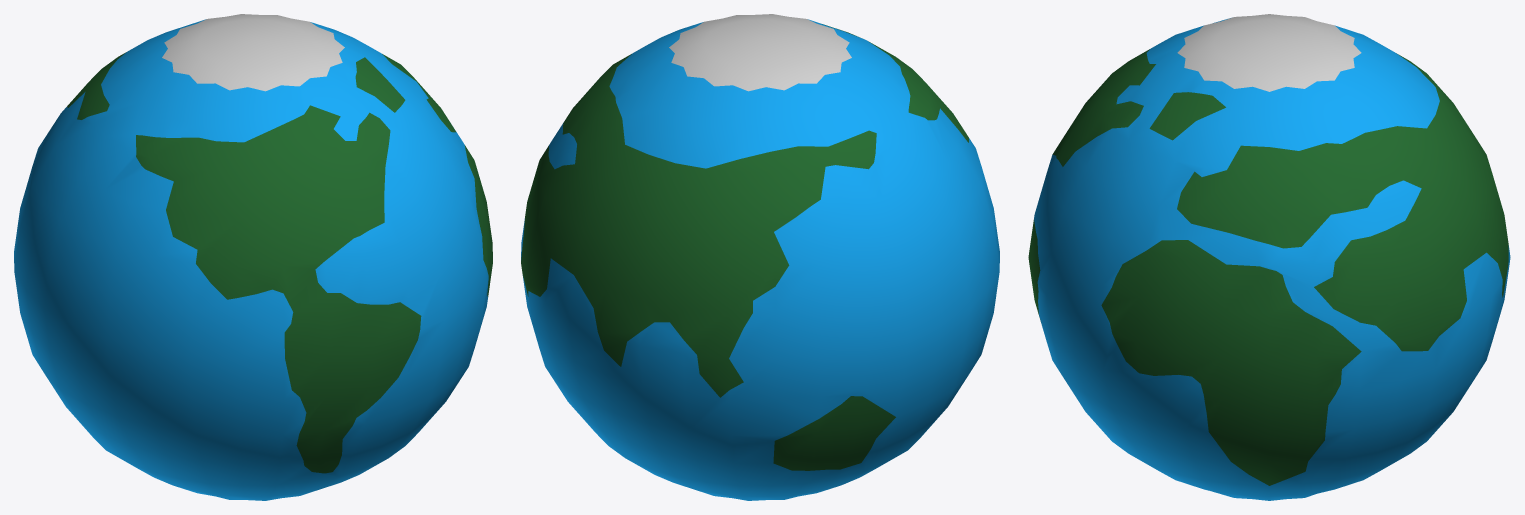
The model's file is 03_Terra.gltf.
3 renders of one model, left to right at view 1: azimuth 30°, elevation 25°; view 2: azimuth 150°, elevation 25°; view 3: azimuth 270°, elevation 25°, orthographic.
Visible parts, largest first — view 1: 03_Terra; view 2: 03_Terra; view 3: 03_Terra.
Boxes of the visible parts, bbox=[...] form: 03_Terra: bbox=[14, 14, 492, 500]; 03_Terra: bbox=[521, 14, 999, 500]; 03_Terra: bbox=[1028, 14, 1510, 500].
Bounding box in the file's own units: 0.4808 × 0.4808 × 0.4808.
1 material, 1 textured.
